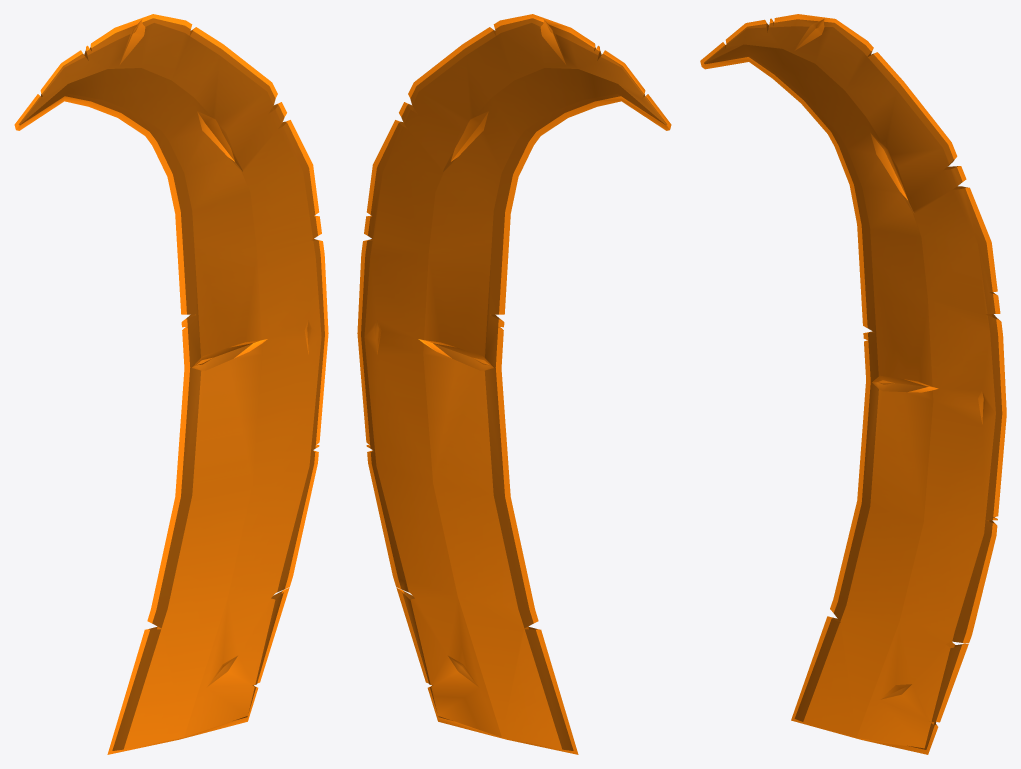
The model's file is bronze_blade_scratched_024.glb.
3 renders of one model, left to right at view 1: azimuth 30°, elevation 25°; view 2: azimuth 150°, elevation 25°; view 3: azimuth 330°, elevation 25°, orthographic. The views are drawn at different scales.
Parts seen in each view (by area): view 1: bronze_blade_scratched.024; view 2: bronze_blade_scratched.024; view 3: bronze_blade_scratched.024.
Boxes of the visible parts, box(x1,y1,x2,y2) form: bronze_blade_scratched.024: box(14, 14, 328, 754); bronze_blade_scratched.024: box(357, 14, 671, 754); bronze_blade_scratched.024: box(700, 14, 1006, 754).
Size of the model in its own units: 4.65 by 10.35 by 0.241.
1 material, 1 textured.
